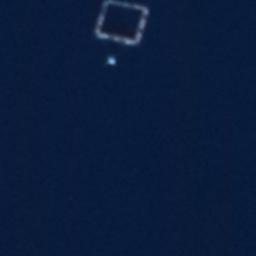square_solid: (90, 1, 152, 51)
